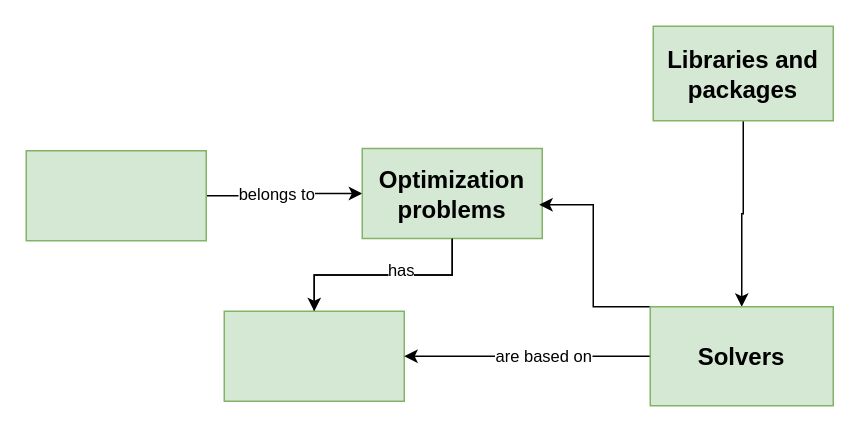
This 860x432 diagram has some shape labels left out. Here are the shapes that lost their labels. From the top down, the centre of each, then its label:
At (x=115, y=195): "Transportation problem".
At (x=313, y=355): "Methods of solving".
